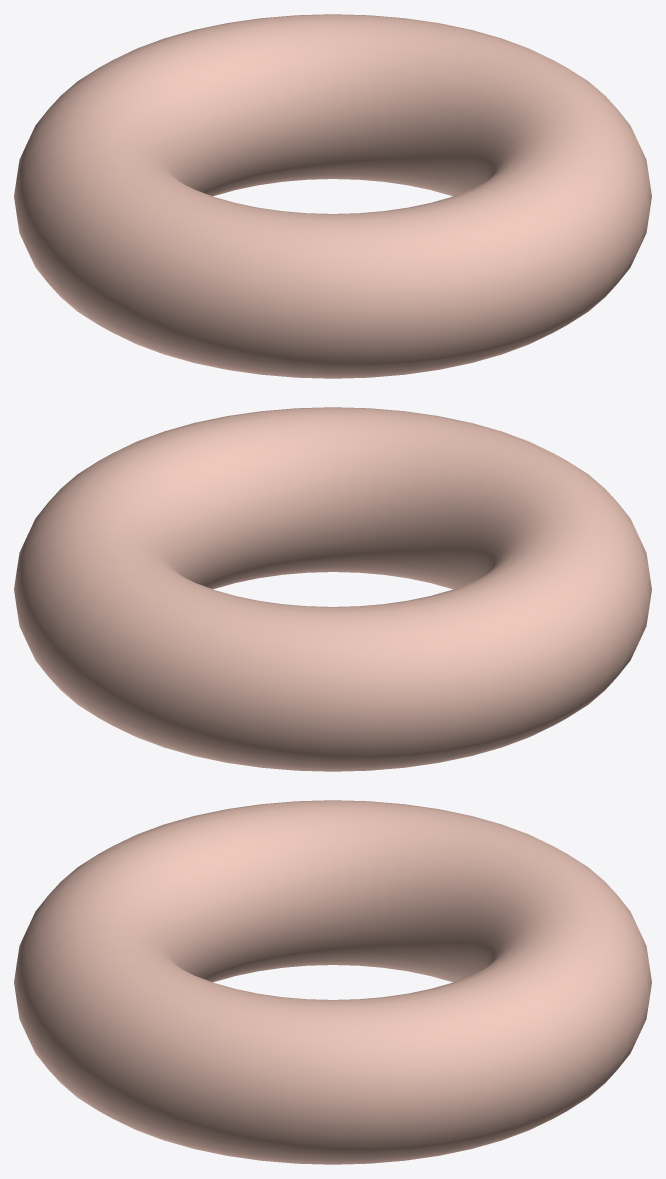
Rendered from example.gltf.
3 renders of one model, top to bottom at view 1: azimuth 30°, elevation 25°; view 2: azimuth 150°, elevation 25°; view 3: azimuth 270°, elevation 25°, orthographic.
Parts seen in each view (by area): view 1: torus; view 2: torus; view 3: torus.
Part boxes in pixels (x1=…): torus: x1=14, y1=14, x2=651, y2=378; torus: x1=14, y1=407, x2=651, y2=771; torus: x1=14, y1=800, x2=651, y2=1164.
Size of the model in its own units: 2.7 by 0.7 by 2.7.
